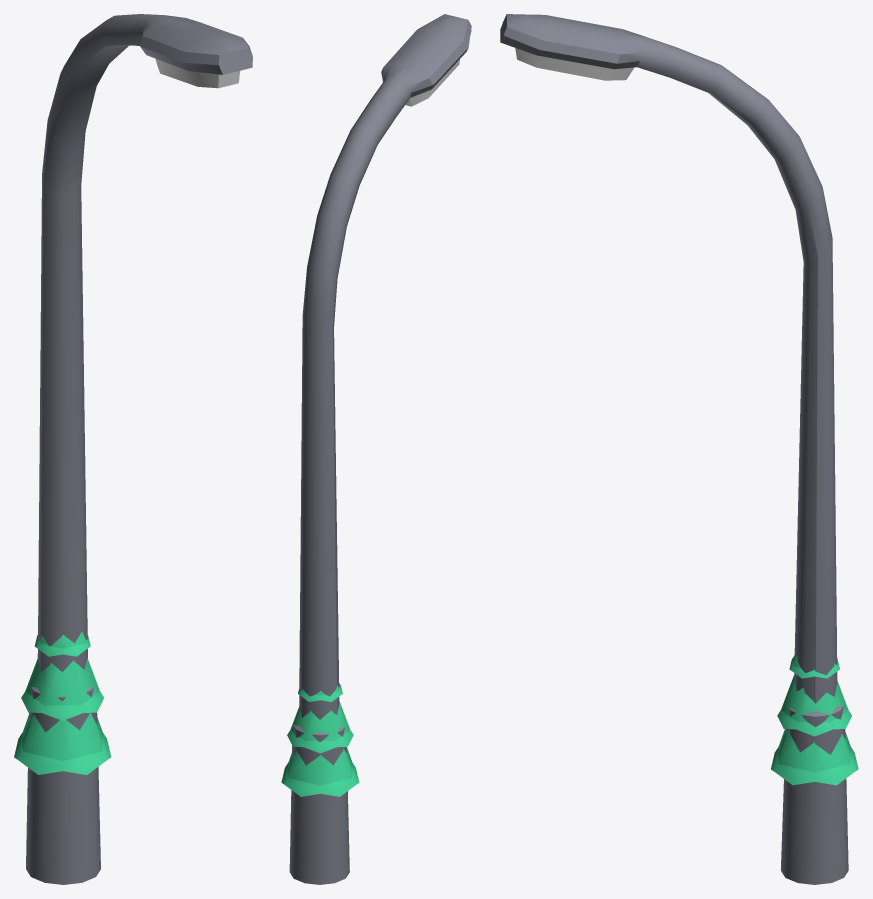
File: street-scenery.glb
3 renders of one model, left to right at view 1: azimuth 30°, elevation 25°; view 2: azimuth 150°, elevation 25°; view 3: azimuth 270°, elevation 25°, orthographic. The views are drawn at different scales.
Visible parts, largest first — view 1: StreetLight, treeLarge; view 2: StreetLight, treeLarge; view 3: StreetLight, treeLarge.
Part boxes in pixels (x1,y1,x2,y2): StreetLight: [26, 14, 252, 884]; treeLarge: [14, 631, 111, 774]; StreetLight: [289, 14, 471, 884]; treeLarge: [281, 683, 359, 796]; StreetLight: [500, 14, 848, 884]; treeLarge: [771, 655, 858, 785].
Size of the model in its own units: 0.5529 by 5.65 by 2.15.
